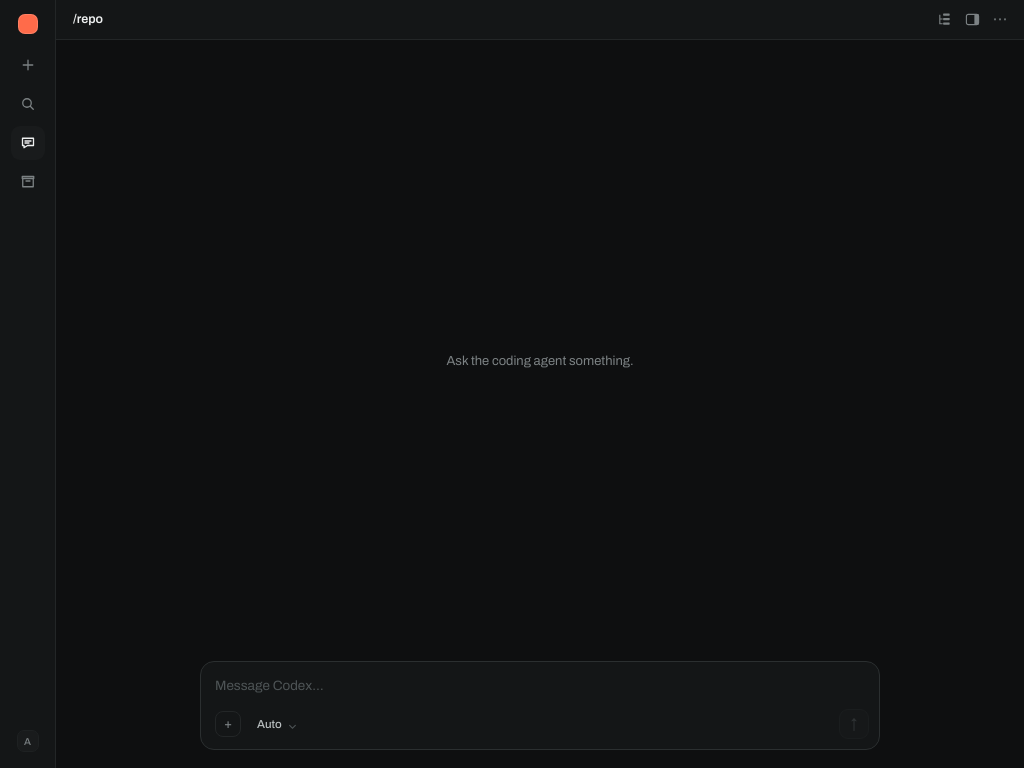
Scenario: approval mode picker › omits a mode the operator has disabled
Click the button titled "Approval mode".
click(277, 724)  # box left=247, top=710, right=307, bottom=738
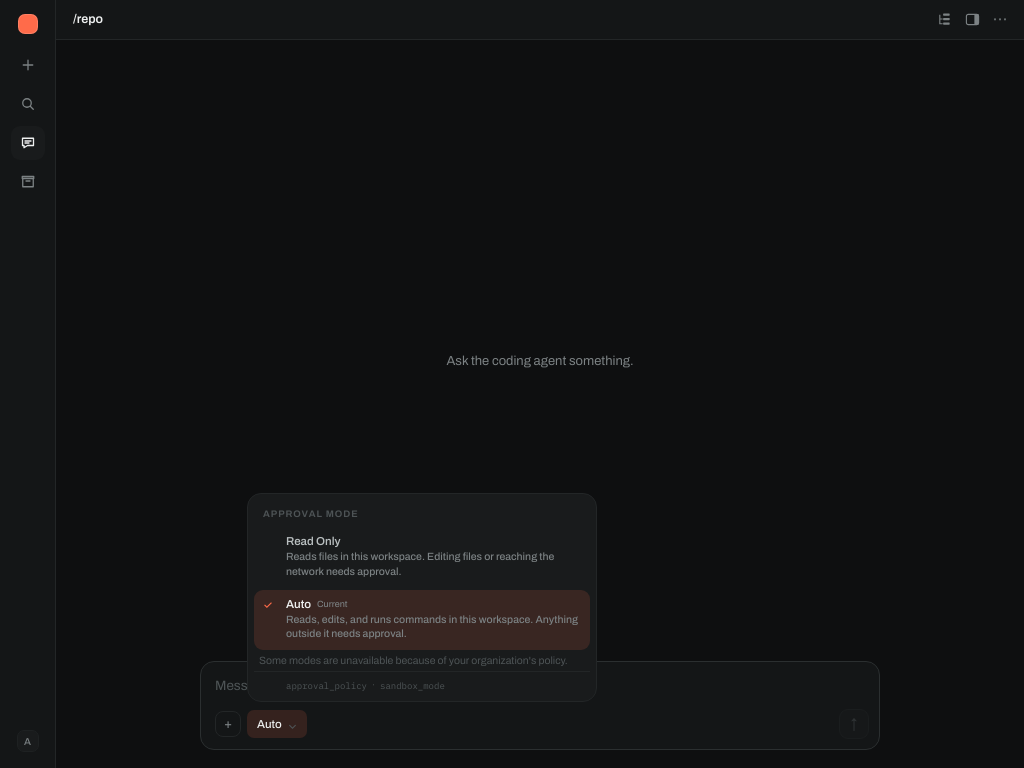
Expected: the dialog with class "model-menu" shows "organization's policy", left=259, top=655, right=568, bottom=666
